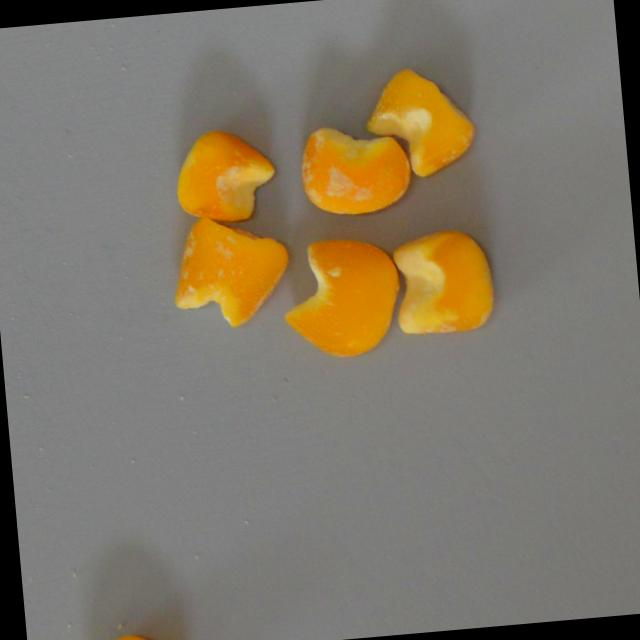dañado: (274, 228, 408, 365), (163, 207, 296, 332), (358, 58, 482, 186), (384, 221, 501, 343), (291, 116, 415, 220), (166, 119, 282, 227), (72, 624, 192, 640)
